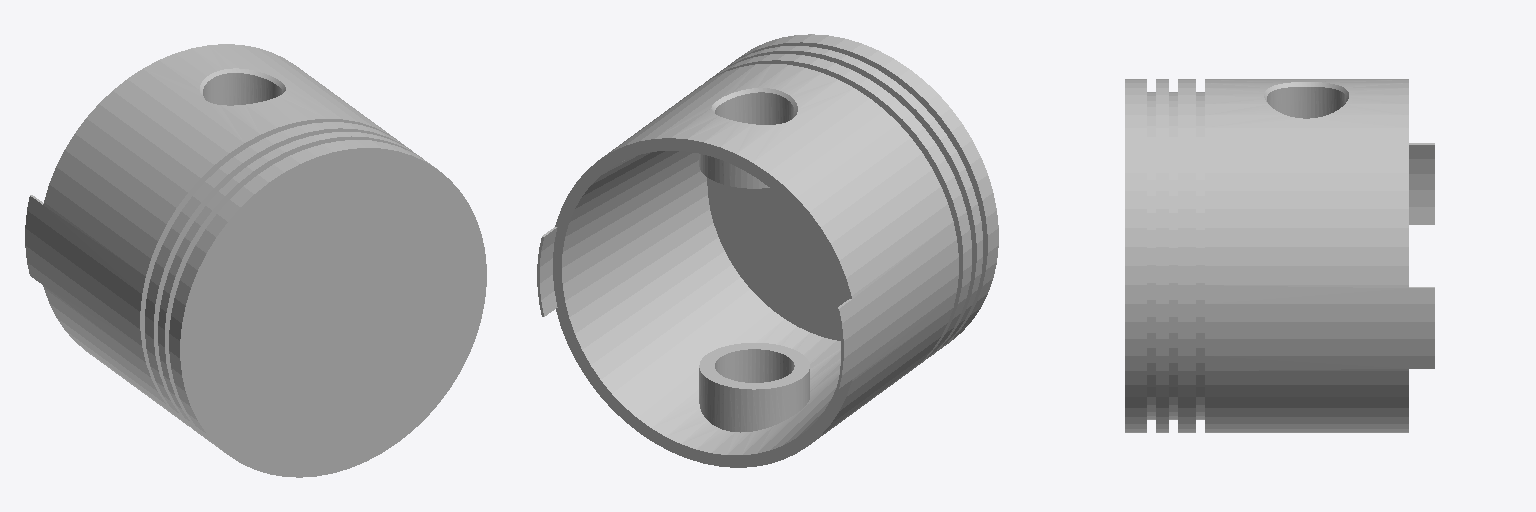
The model's file is Piston C.obj.
The picture shows the model from 3 angles: view 1: azimuth 30°, elevation 25°; view 2: azimuth 150°, elevation 25°; view 3: azimuth 270°, elevation 25°; orthographic projection.
Visible parts, largest first — view 1: mesh5, mesh18, mesh6, mesh14, mesh10, mesh1, mesh17, mesh13, mesh9; view 2: mesh0, mesh18, mesh28, mesh23, mesh6, mesh29, mesh14, mesh10, mesh20, mesh1, mesh7, mesh11 (+4 smaller); view 3: mesh18, mesh6, mesh14, mesh10, mesh8, mesh12, mesh16, mesh27, mesh1.
Part boxes in pixels (bbox=[...]): mesh5: bbox=[180, 148, 486, 477]; mesh18: bbox=[25, 44, 395, 425]; mesh6: bbox=[169, 140, 436, 452]; mesh14: bbox=[145, 122, 410, 433]; mesh10: bbox=[158, 132, 421, 441]; mesh1: bbox=[203, 73, 282, 105]; mesh17: bbox=[140, 119, 399, 424]; mesh13: bbox=[154, 128, 411, 435]; mesh9: bbox=[165, 136, 422, 443]; mesh0: bbox=[562, 151, 840, 454]; mesh18: bbox=[601, 64, 958, 444]; mesh28: bbox=[707, 178, 841, 340]; mesh23: bbox=[553, 138, 851, 467]; mesh6: bbox=[732, 34, 998, 348]; mesh29: bbox=[699, 368, 809, 432]; mesh14: bbox=[706, 54, 971, 364]; mesh10: bbox=[721, 46, 982, 354]; mesh20: bbox=[715, 349, 794, 382]; mesh1: bbox=[715, 92, 794, 124]; mesh7: bbox=[728, 42, 987, 350]; mesh11: bbox=[717, 51, 976, 356]; mesh18: bbox=[1205, 79, 1434, 432]; mesh6: bbox=[1125, 79, 1146, 432]; mesh14: bbox=[1178, 79, 1195, 432]; mesh10: bbox=[1156, 79, 1168, 432]; mesh8: bbox=[1147, 92, 1155, 419]; mesh12: bbox=[1169, 92, 1177, 419]; mesh16: bbox=[1196, 92, 1204, 419]; mesh27: bbox=[1409, 145, 1434, 224]; mesh1: bbox=[1267, 87, 1345, 118].
Size of the model in its own units: 0.0799 by 0.08 by 0.07.